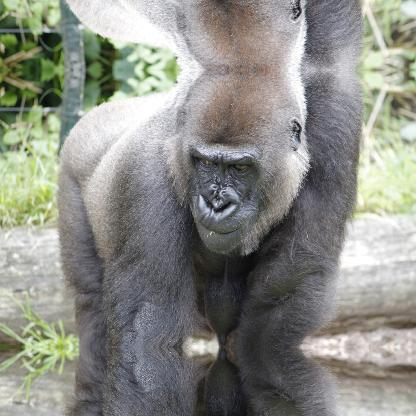Monkey: (53, 69, 366, 344), (53, 0, 367, 70), (53, 348, 367, 415)
